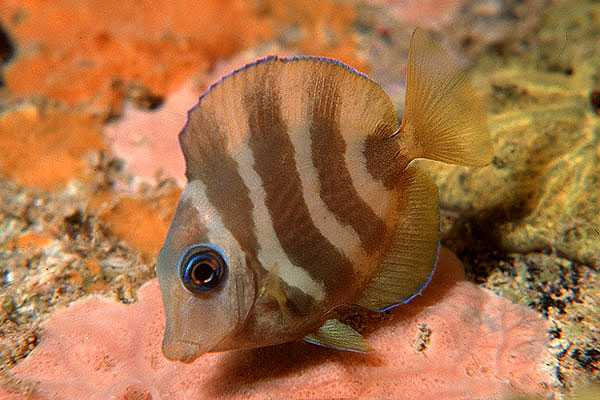Acanthurus_coeruleus: (145, 24, 501, 373)
